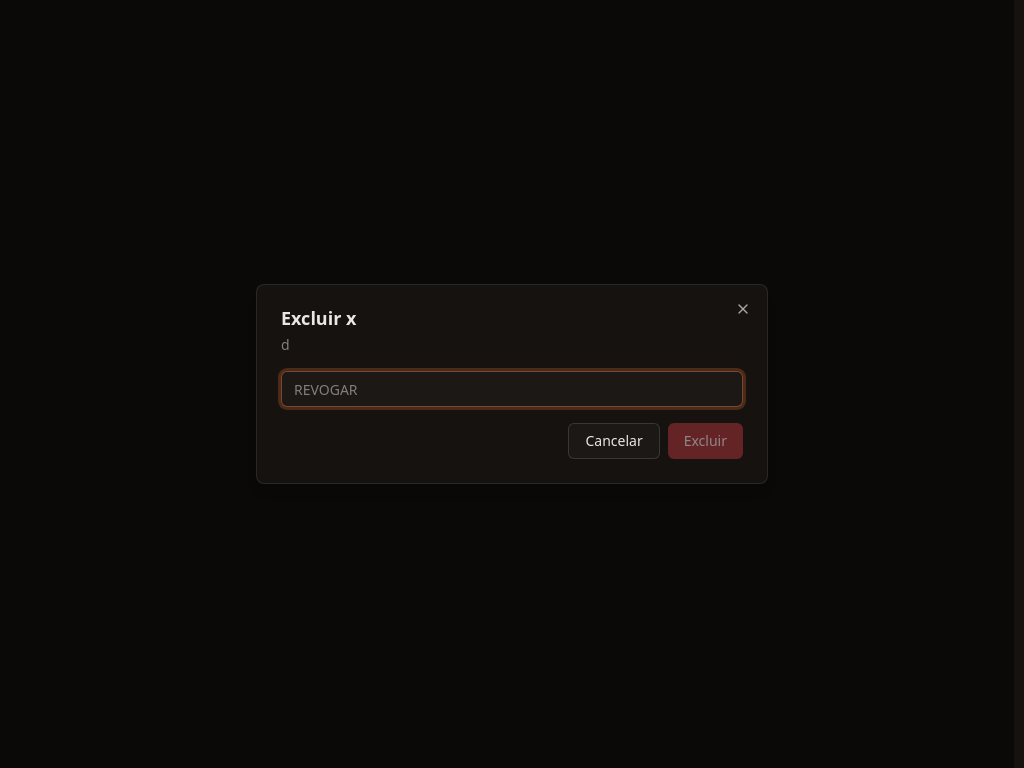
Test case: DeleteDialog — confirmação por digitação › o botão só libera com o texto EXATO, e o Enter segue a mesma regra
Expected: the button "Excluir" is disabled, [668, 423, 743, 459]
Type "revogar" into the field with placeholder "REVOGAR".
click(512, 389); type("revogar")  # box [281, 371, 743, 407]
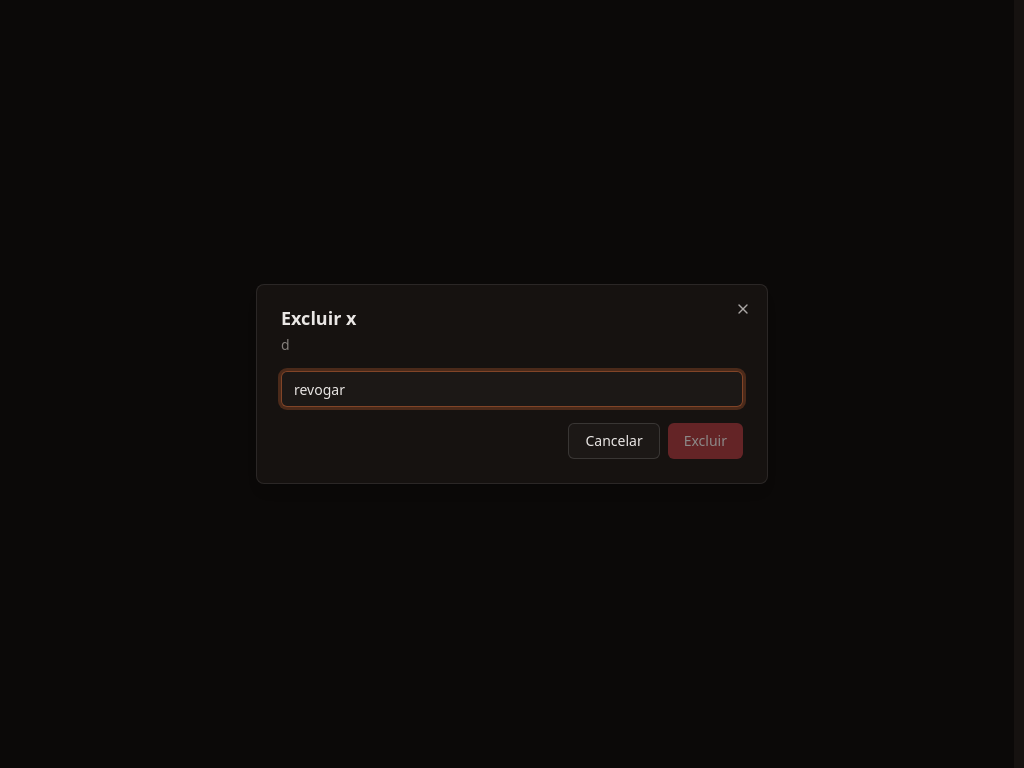
Press Enter in the field with placeholder "REVOGAR", box [281, 371, 743, 407]
Expected: the button "Excluir" is disabled, [668, 423, 743, 459]
Replace the text in the field with placeholder "REVOGAR" with "REVOGAR" at (512, 389), box [281, 371, 743, 407]
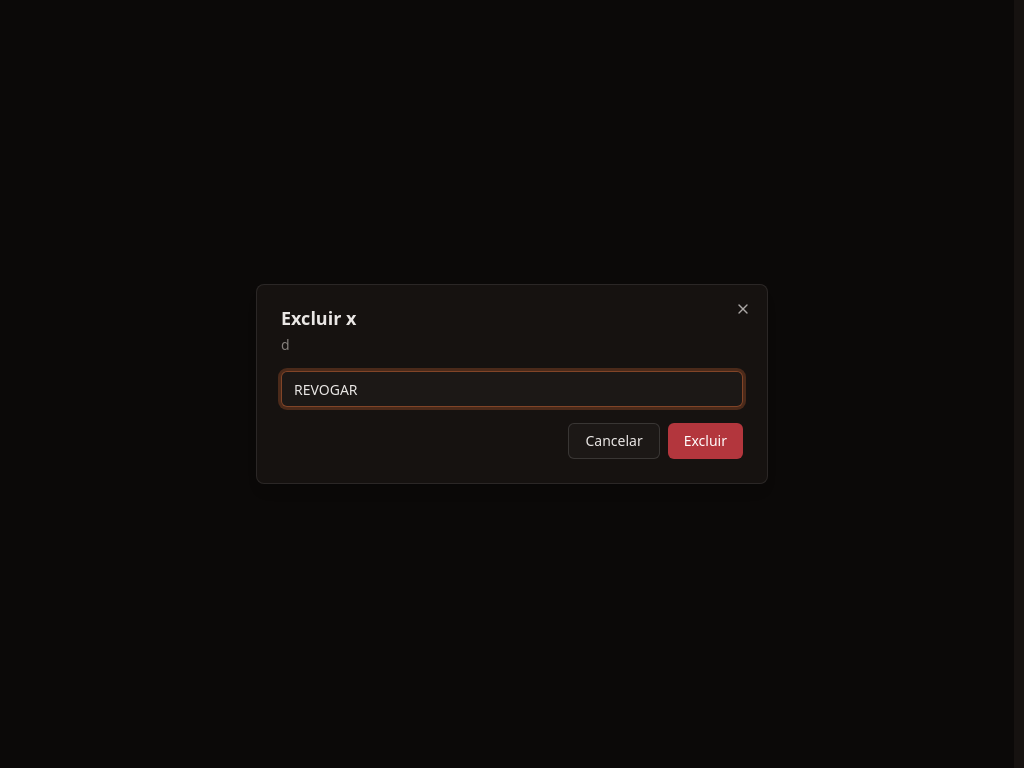
Expected: the button "Excluir" is enabled, [668, 423, 743, 459]
